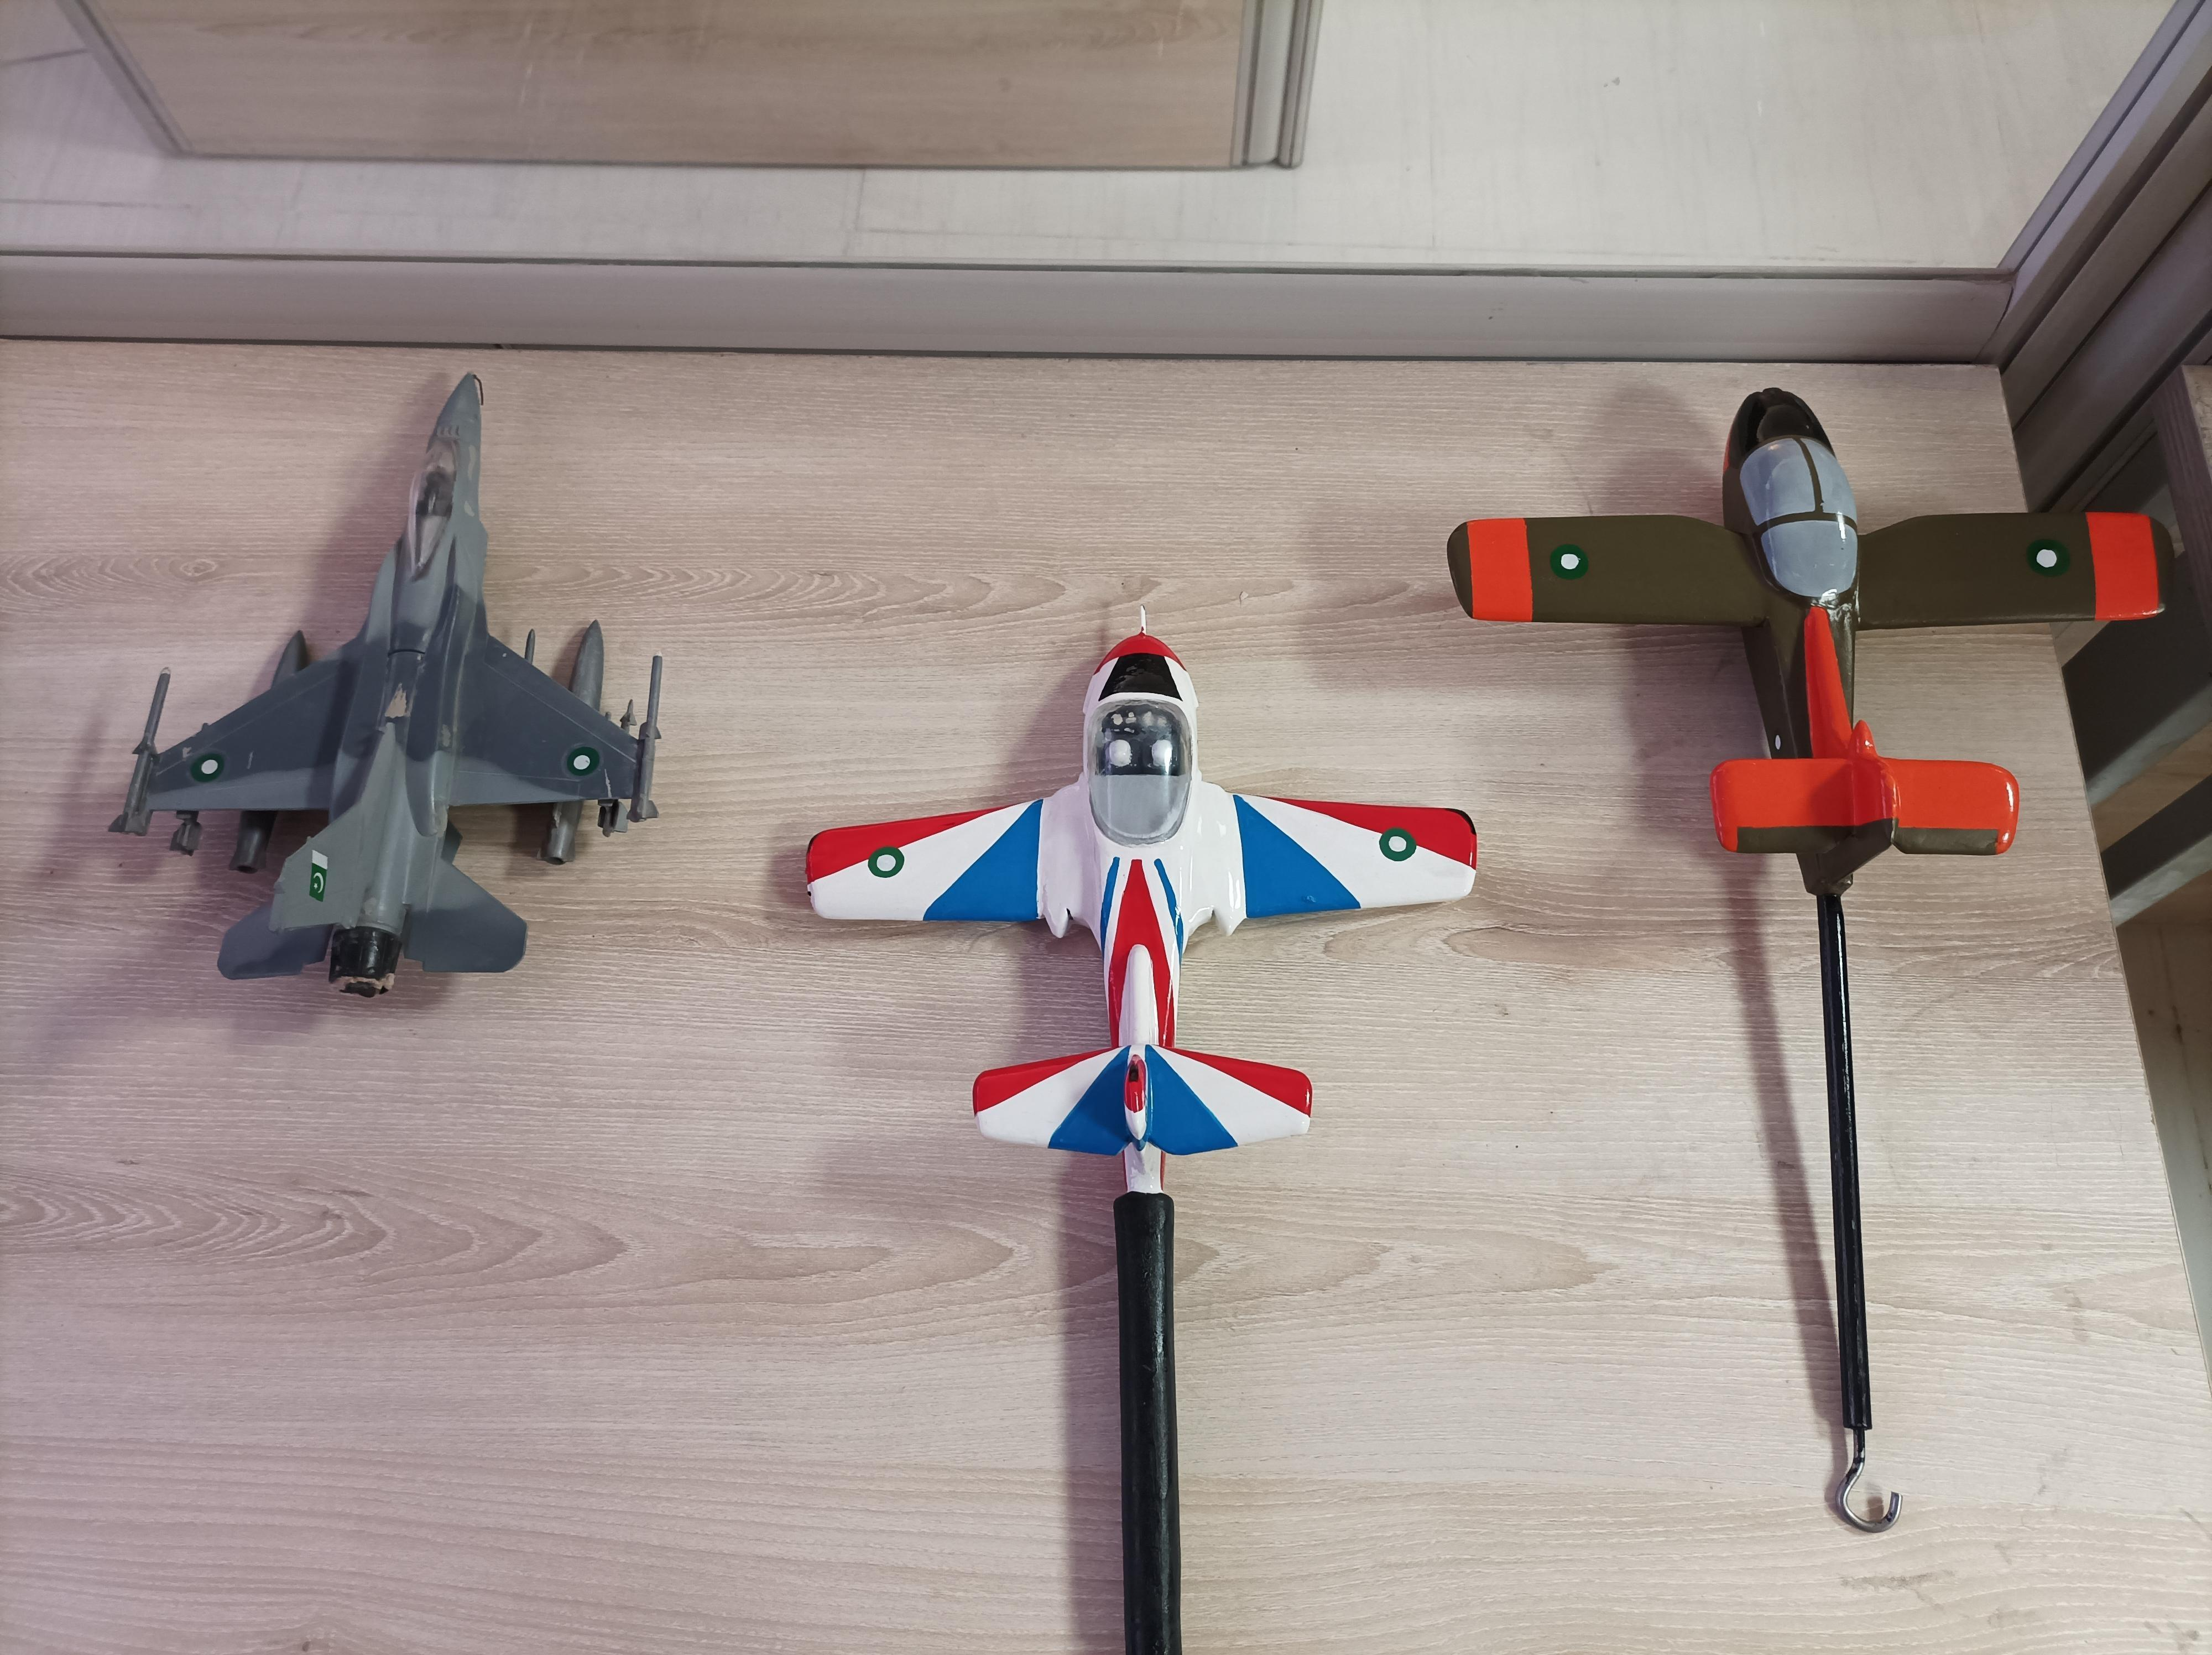Airplane: (1430, 360, 2193, 930), (83, 355, 700, 1015), (785, 614, 1487, 1180)
